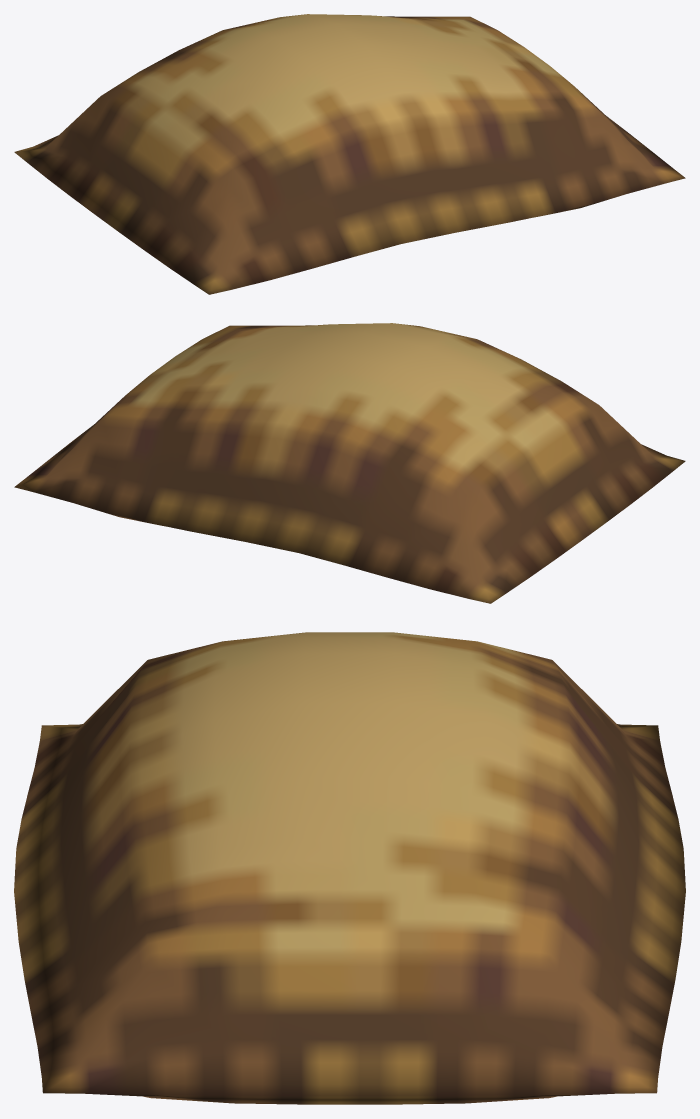
The model's file is ObjMD_Bag_A_cloth.FBX.
The picture shows the model from 3 angles, top to bottom: view 1: azimuth 30°, elevation 25°; view 2: azimuth 150°, elevation 25°; view 3: azimuth 270°, elevation 25°; orthographic projection. The views are drawn at different scales.
Parts seen in each view (by area): view 1: ObjMD_Bag_A_cloth; view 2: ObjMD_Bag_A_cloth; view 3: ObjMD_Bag_A_cloth.
Boxes of the visible parts, left/top/right/bottom form: ObjMD_Bag_A_cloth: left=14, top=14, right=685, bottom=294; ObjMD_Bag_A_cloth: left=14, top=323, right=685, bottom=603; ObjMD_Bag_A_cloth: left=14, top=632, right=685, bottom=1104.
Bounding box in the file's own units: 145 × 46.52 × 110.
